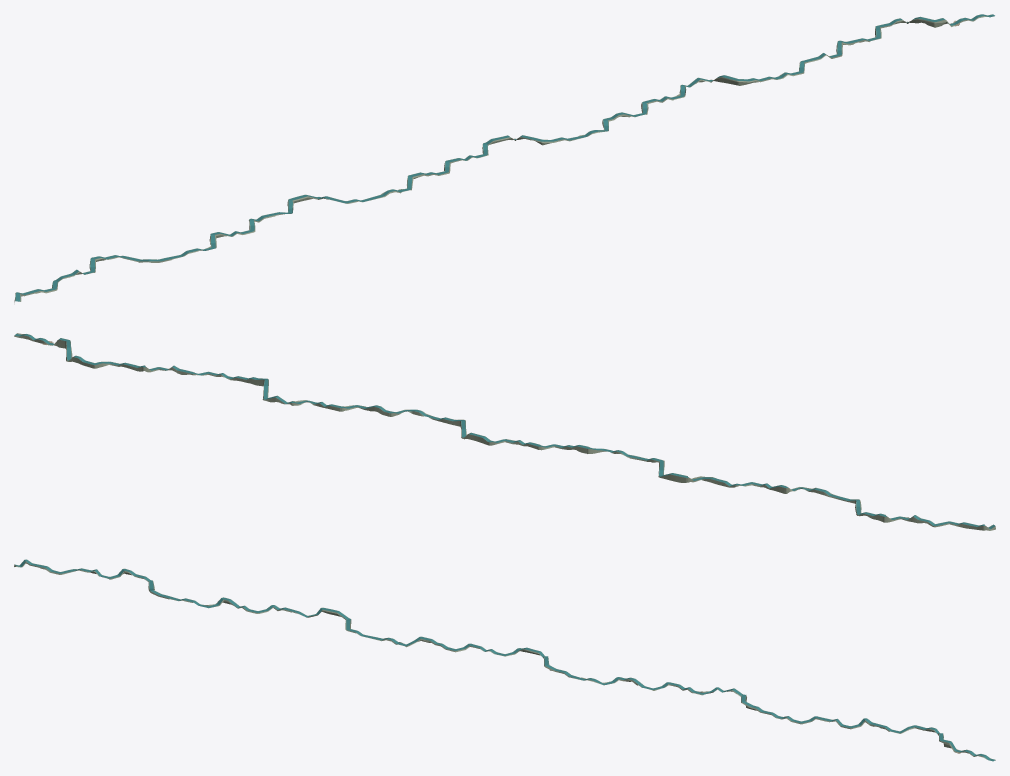
File: river.glb
3 views of the same model, one above another, from view 1: azimuth 30°, elevation 25°; view 2: azimuth 150°, elevation 25°; view 3: azimuth 330°, elevation 25° (orthographic). The views are drawn at different scales.
Size of the model in its own units: 354 by 2.94 by 40.79.
